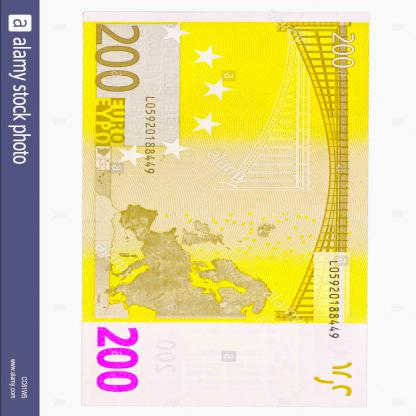euro_banknote: (31, 65, 416, 359)
